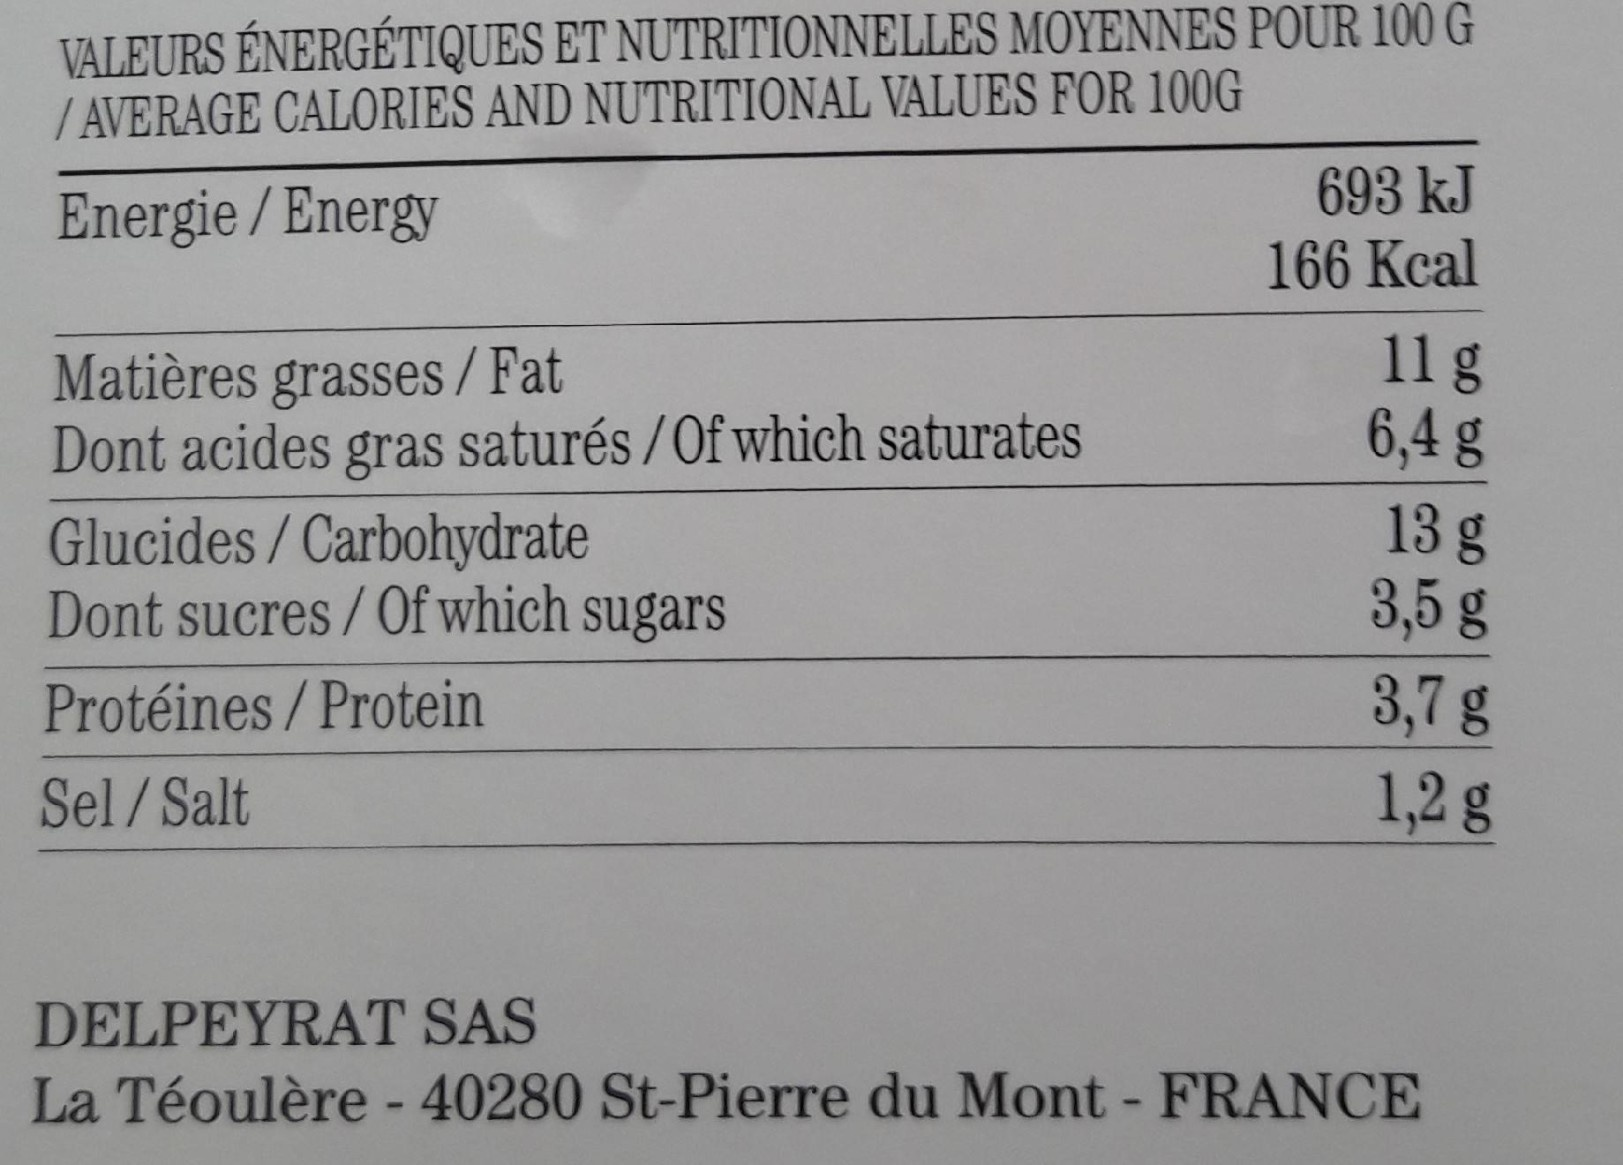column: (45, 162, 1085, 843), (1266, 160, 1486, 838)
table: (45, 162, 1497, 849)
